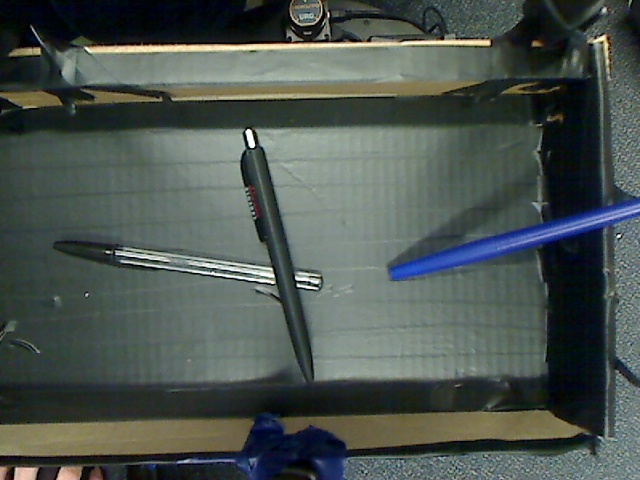pen: (212, 116, 346, 396), (42, 226, 335, 307), (376, 199, 640, 283)
